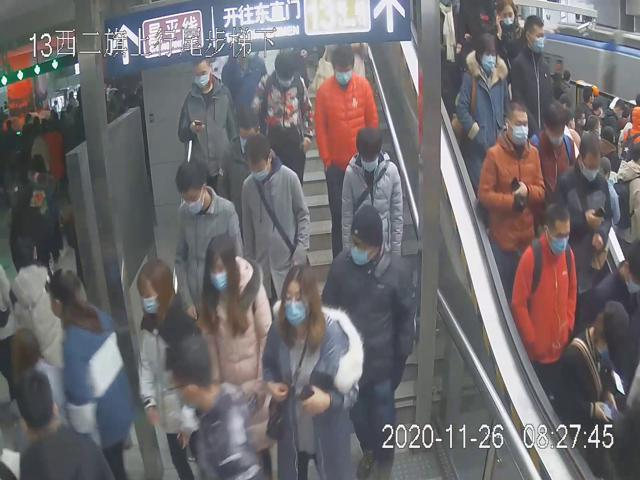person: (320, 197, 416, 480), (258, 263, 362, 480), (195, 231, 277, 480), (135, 257, 203, 480), (314, 40, 380, 259), (477, 98, 544, 285), (173, 156, 246, 321), (242, 134, 309, 304), (511, 201, 577, 371), (337, 120, 406, 279), (455, 32, 514, 193), (248, 49, 315, 190), (177, 51, 240, 188), (219, 109, 274, 211)
